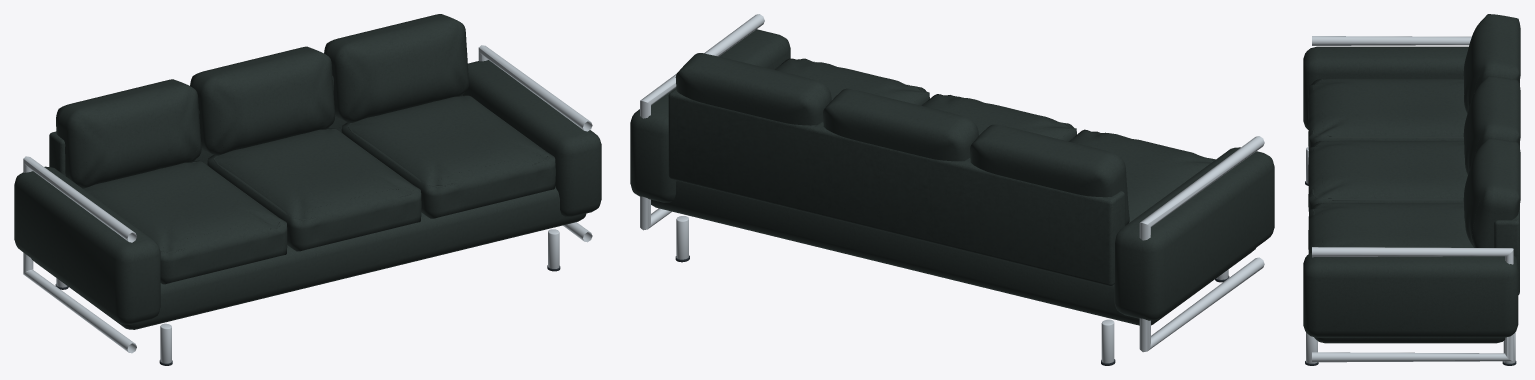
File: metal-frame-sofa.glb
3 views of the same model, side by side, from view 1: azimuth 30°, elevation 25°; view 2: azimuth 150°, elevation 25°; view 3: azimuth 270°, elevation 25° (orthographic). The views are drawn at different scales.
Visible parts, largest first — view 1: catalog_surface_UVMap, catalog_surface_RealismUV; view 2: catalog_surface_UVMap, catalog_surface_RealismUV; view 3: catalog_surface_UVMap, catalog_surface_RealismUV.
Part boxes in pixels (bbox=[...]): catalog_surface_UVMap: bbox=[14, 14, 601, 365]; catalog_surface_RealismUV: bbox=[23, 35, 592, 363]; catalog_surface_UVMap: bbox=[630, 29, 1274, 365]; catalog_surface_RealismUV: bbox=[640, 14, 1264, 363]; catalog_surface_UVMap: bbox=[1303, 14, 1520, 365]; catalog_surface_RealismUV: bbox=[1306, 36, 1515, 363].
Size of the model in its own units: 2.2 by 0.79 by 0.9.
Materials: 4 (1 with a texture image).
